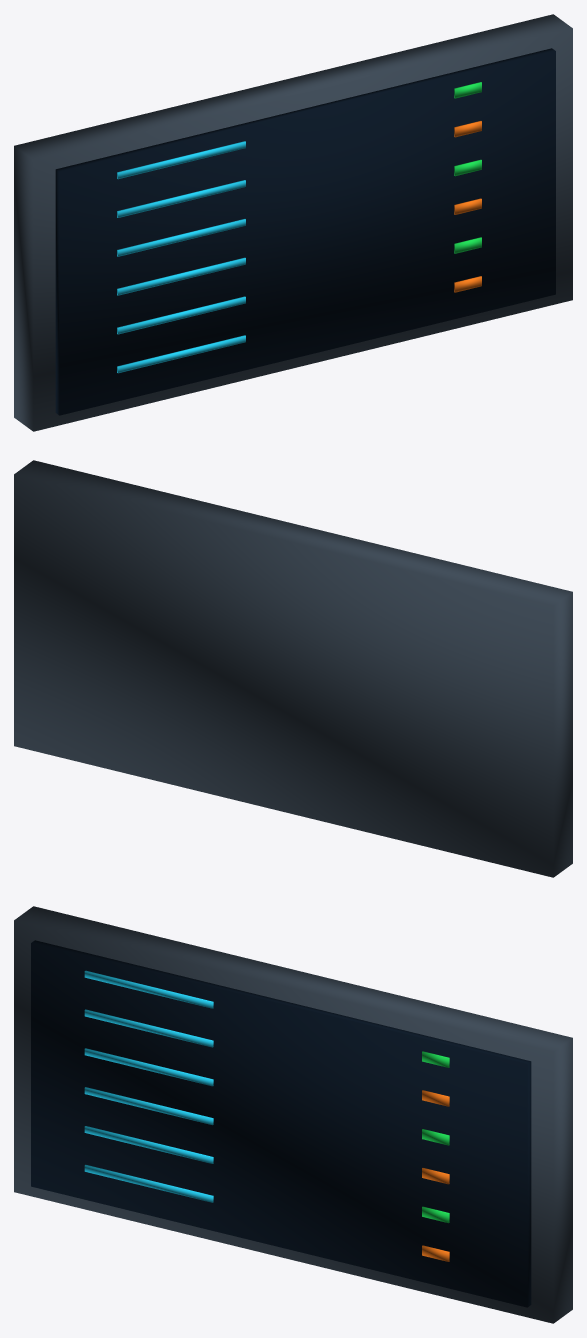
File: 47_L94_PCBAssemblySCADAPanel.fbx
The picture shows the model from 3 angles, top to bottom: view 1: azimuth 30°, elevation 25°; view 2: azimuth 150°, elevation 25°; view 3: azimuth 330°, elevation 25°; orthographic projection.
Parts seen in each view (by area): view 1: L94_PCBAssemblySCADAPanel; view 2: L94_PCBAssemblySCADAPanel; view 3: L94_PCBAssemblySCADAPanel.
Boxes of the visible parts, left/top/right/bottom form: L94_PCBAssemblySCADAPanel: left=14, top=14, right=572, bottom=431; L94_PCBAssemblySCADAPanel: left=14, top=460, right=572, bottom=877; L94_PCBAssemblySCADAPanel: left=14, top=906, right=572, bottom=1323.
Bounding box in the file's own units: 160 × 77 × 13.55.
